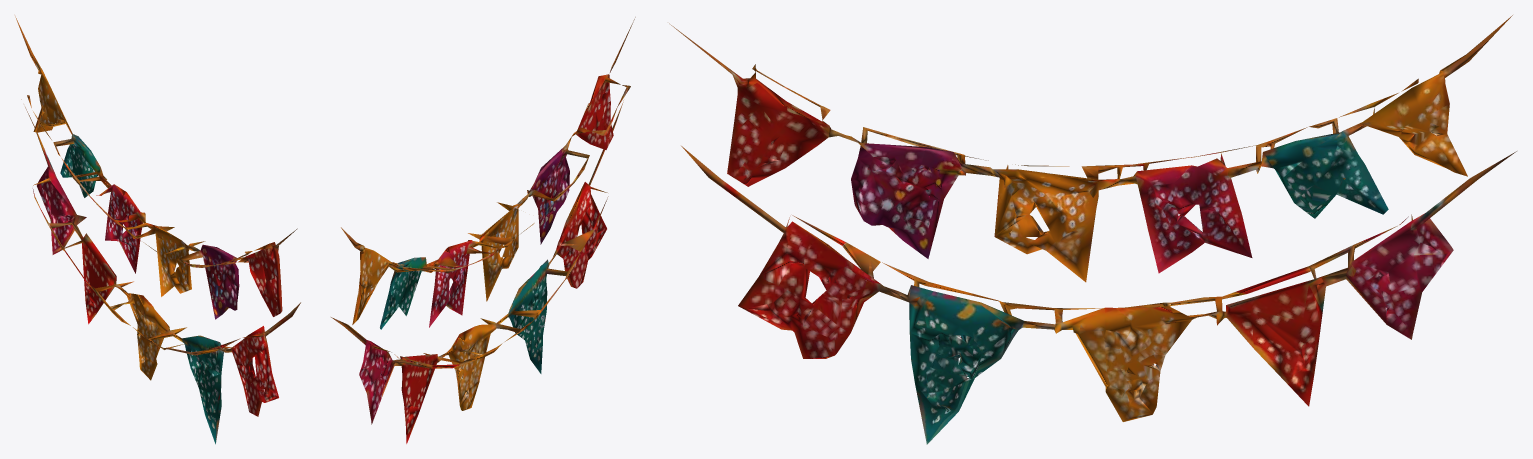
Rendered from papel-picado.glb.
3 renders of one model, left to right at view 1: azimuth 30°, elevation 25°; view 2: azimuth 150°, elevation 25°; view 3: azimuth 270°, elevation 25°, orthographic. The views are drawn at different scales.
Parts seen in each view (by area): view 1: tripo_node_15a98843-04dd-491a-911e-dd7667a4eaab; view 2: tripo_node_15a98843-04dd-491a-911e-dd7667a4eaab; view 3: tripo_node_15a98843-04dd-491a-911e-dd7667a4eaab.
Boxes of the visible parts, <box> form: tripo_node_15a98843-04dd-491a-911e-dd7667a4eaab: <box>15,16,300,444</box>; tripo_node_15a98843-04dd-491a-911e-dd7667a4eaab: <box>331,17,635,443</box>; tripo_node_15a98843-04dd-491a-911e-dd7667a4eaab: <box>669,15,1516,444</box>.
Bounding box in the file's own units: 0.0919 × 0.5525 × 0.998.
1 material, 1 textured.
